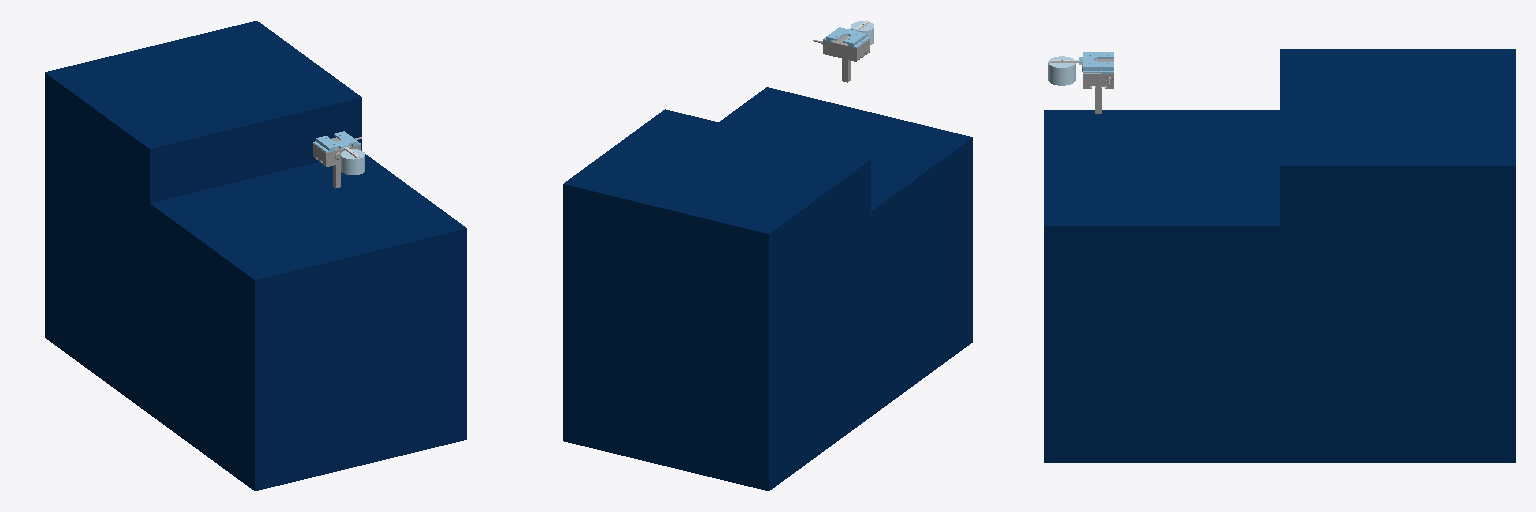
--- Facts derived from the render (not from the file) ---
Views: 3 orthographic renders of the robot side by side, from view 1: azimuth 30°, elevation 25°; view 2: azimuth 150°, elevation 25°; view 3: azimuth 270°, elevation 25°.
Robot: hc10_with_hand — 23 links, 22 joints (6 revolute, 2 prismatic, 14 fixed); root link part_1; default pose: all joints at 0.
Links seen in each view (by area): view 1: part_1, ffld_0850ncn30_lksr00_0__6, camera_sup2; view 2: part_1, ffld_0850ncn30_lksr00_0__6; view 3: part_1, ffld_0850ncn30_lksr00_0__6, camera_sup2.
Boxes of the visible links, <box> form: part_1: <box>45,21,466,490</box>; ffld_0850ncn30_lksr00_0__6: <box>313,131,361,166</box>; camera_sup2: <box>339,146,364,174</box>; part_1: <box>563,87,972,490</box>; ffld_0850ncn30_lksr00_0__6: <box>813,27,869,61</box>; part_1: <box>1044,49,1515,462</box>; ffld_0850ncn30_lksr00_0__6: <box>1079,52,1113,88</box>; camera_sup2: <box>1048,56,1082,85</box>.
Size in the robot's own frame: 0.7 by 1.2 by 0.97 metres.
Meshes: 13 distinct files referenced, 7 mesh visuals loaded (6 binary STL); not drawn: 7 (reference not matched to a file when rendering).

URDF robot description (hc10_with_hand):
<?xml version="1.0" ?>
<!-- =================================================================================== -->
<!-- |    This document was autogenerated by xacro from [local-path]/project/final_project/src/hc10_with_hand/urdf/hc10dt_full.urdf.xacro | -->
<!-- |    EDITING THIS FILE BY HAND IS NOT RECOMMENDED                                 | -->
<!-- =================================================================================== -->
<robot name="hc10_with_hand">
    <!-- link list -->
    <link name="base_link">
        <visual>
            <geometry>
                <mesh filename="package://motoman_hc10_support/meshes/hc10/visual/base_link.dae" />
            </geometry>
            <material name="">
                <color rgba="0.12941176470588237 0.14901960784313725 0.7490196078431373 1.0" />
            </material>
        </visual>
        <collision>
            <geometry>
                <mesh filename="package://motoman_hc10_support/meshes/hc10/collision/base_link.stl" />
            </geometry>
        </collision>
        <inertial>
            <mass value="0.1" />
            <origin xyz="0 0 0" rpy="0 0 0" />
            <inertia ixx="0.03" iyy="0.03" izz="0.03" ixy="0.0" ixz="0.0" iyz="0.0" />
        </inertial>
    </link>
    <link name="link_1_s">
        <visual>
            <geometry>
                <mesh filename="package://motoman_hc10_support/meshes/hc10/visual/link_1_s.dae" />
            </geometry>
            <material name="">
                <color rgba="0.12941176470588237 0.14901960784313725 0.7490196078431373 1.0" />
            </material>
        </visual>
        <collision>
            <geometry>
                <mesh filename="package://motoman_hc10_support/meshes/hc10/collision/link_1_s.stl" />
            </geometry>
        </collision>
        <inertial>
            <mass value="0.1" />
            <origin xyz="0 0 0" rpy="0 0 0" />
            <inertia ixx="0.03" iyy="0.03" izz="0.03" ixy="0.0" ixz="0.0" iyz="0.0" />
        </inertial>
    </link>
    <link name="link_2_l">
        <visual>
            <geometry>
                <mesh filename="package://motoman_hc10_support/meshes/hc10/visual/link_2_l.dae" />
            </geometry>
            <material name="">
                <color rgba="0.12941176470588237 0.14901960784313725 0.7490196078431373 1.0" />
            </material>
        </visual>
        <collision>
            <geometry>
                <mesh filename="package://motoman_hc10_support/meshes/hc10/collision/link_2_l.stl" />
            </geometry>
        </collision>
        <inertial>
            <mass value="0.1" />
            <origin xyz="0 0 0" rpy="0 0 0" />
            <inertia ixx="0.03" iyy="0.03" izz="0.03" ixy="0.0" ixz="0.0" iyz="0.0" />
        </inertial>
    </link>
    <link name="link_3_u">
        <visual>
            <geometry>
                <mesh filename="package://motoman_hc10_support/meshes/hc10/visual/link_3_u.dae" />
            </geometry>
            <material name="">
                <color rgba="0.12941176470588237 0.14901960784313725 0.7490196078431373 1.0" />
            </material>
        </visual>
        <collision>
            <geometry>
                <mesh filename="package://motoman_hc10_support/meshes/hc10/collision/link_3_u.stl" />
            </geometry>
        </collision>
        <inertial>
            <mass value="0.1" />
            <origin xyz="0 0 0" rpy="0 0 0" />
            <inertia ixx="0.03" iyy="0.03" izz="0.03" ixy="0.0" ixz="0.0" iyz="0.0" />
        </inertial>
    </link>
    <link name="link_4_r">
        <visual>
            <geometry>
                <mesh filename="package://motoman_hc10_support/meshes/hc10/visual/link_4_r.dae" />
            </geometry>
            <material name="">
                <color rgba="0.12941176470588237 0.14901960784313725 0.7490196078431373 1.0" />
            </material>
        </visual>
        <collision>
            <geometry>
                <mesh filename="package://motoman_hc10_support/meshes/hc10/collision/link_4_r.stl" />
            </geometry>
        </collision>
        <inertial>
            <mass value="0.1" />
            <origin xyz="0 0 0" rpy="0 0 0" />
            <inertia ixx="0.03" iyy="0.03" izz="0.03" ixy="0.0" ixz="0.0" iyz="0.0" />
        </inertial>
    </link>
    <link name="link_5_b">
        <visual>
            <geometry>
                <mesh filename="package://motoman_hc10_support/meshes/hc10/visual/link_5_b.dae" />
            </geometry>
            <material name="">
                <color rgba="0.12941176470588237 0.14901960784313725 0.7490196078431373 1.0" />
            </material>
        </visual>
        <collision>
            <geometry>
                <mesh filename="package://motoman_hc10_support/meshes/hc10/collision/link_5_b.stl" />
            </geometry>
        </collision>
        <inertial>
            <mass value="0.1" />
            <origin xyz="0 0 0" rpy="0 0 0" />
            <inertia ixx="0.03" iyy="0.03" izz="0.03" ixy="0.0" ixz="0.0" iyz="0.0" />
        </inertial>
    </link>
    <link name="link_6_t">
        <visual>
            <geometry>
                <mesh filename="package://motoman_hc10_support/meshes/hc10dt/visual/link_6_t.dae" />
            </geometry>
            <material name="">
                <color rgba="0.12941176470588237 0.14901960784313725 0.7490196078431373 1.0" />
            </material>
        </visual>
        <collision>
            <geometry>
                <mesh filename="package://motoman_hc10_support/meshes/hc10dt/collision/link_6_t.stl" />
            </geometry>
        </collision>
        <inertial>
            <mass value="0.1" />
            <origin xyz="0 0 0" rpy="0 0 0" />
            <inertia ixx="0.03" iyy="0.03" izz="0.03" ixy="0.0" ixz="0.0" iyz="0.0" />
        </inertial>
    </link>
    <link name="tool0" />
    <!-- end of link list -->
    <!-- joint list -->
    <joint name="joint_1_s" type="revolute">
        <parent link="base_link" />
        <child link="link_1_s" />
        <origin rpy="0 0 0" xyz="0 0 0.275" />
        <axis xyz="0 0 1" />
        <limit effort="368.48" lower="-3.141592653589793" upper="3.141592653589793" velocity="2.2689280275926285" />
    </joint>
    <joint name="joint_2_l" type="revolute">
        <parent link="link_1_s" />
        <child link="link_2_l" />
        <origin rpy="0 0 0" xyz="0 0 0" />
        <axis xyz="0 1 0" />
        <limit effort="368.48" lower="-3.141592653589793" upper="3.141592653589793" velocity="2.2689280275926285" />
    </joint>
    <joint name="joint_3_u" type="revolute">
        <parent link="link_2_l" />
        <child link="link_3_u" />
        <origin rpy="0 0 0" xyz="0 0 0.700" />
        <axis xyz="0 -1 0" />
        <limit effort="141.12" lower="-0.08726646259971647" upper="6.19591884457987" velocity="3.141592653589793" />
    </joint>
    <joint name="joint_4_r" type="revolute">
        <parent link="link_3_u" />
        <child link="link_4_r" />
        <origin rpy="0 0 0" xyz="0 0 -0.500" />
        <axis xyz="0 0 1" />
        <limit effort="39.20" lower="-3.141592653589793" upper="3.141592653589793" velocity="3.141592653589793" />
    </joint>
    <joint name="joint_5_b" type="revolute">
        <parent link="link_4_r" />
        <child link="link_5_b" />
        <origin rpy="0 0 0" xyz="0 0.162 0" />
        <axis xyz="0 -1 0" />
        <limit effort="31.36" lower="-3.141592653589793" upper="3.141592653589793" velocity="4.363323129985824" />
    </joint>
    <joint name="joint_6_t" type="revolute">
        <parent link="link_5_b" />
        <child link="link_6_t" />
        <origin rpy="0 0 0" xyz="0 0 0" />
        <axis xyz="0 0 1" />
        <limit effort="31.36" lower="-3.141592653589793" upper="3.141592653589793" velocity="4.363323129985824" />
    </joint>
    <joint name="joint_6_t-tool0" type="fixed">
        <origin rpy="3.141592653589793 0 0" xyz="0 0 -0.170" />
        <parent link="link_6_t" />
        <child link="tool0" />
    </joint>
    <!-- end of joint list -->
    <!-- ROS base_link to Robot Manufacturer World Coordinates transform -->
    <link name="base" />
    <joint name="base_link-base" type="fixed">
        <origin rpy="0 0 0" xyz="0 0 0.275" />
        <parent link="base_link" />
        <child link="base" />
    </joint>
    <link name="part_1">
        <visual>
            <origin rpy="0 -0 0" xyz="-0.35000000000000003331 0 0" />
            <geometry>
                <mesh filename="package://hc10_with_hand/meshes/agv2/part_1.stl" />
            </geometry>
            <material name="part_1_material">
                <color rgba="0.043137254901960783715 0.21568627450980393245 0.40392156862745098866 1.0" />
            </material>
        </visual>
        <collision>
            <origin rpy="0 -0 0" xyz="-0.35000000000000003331 0 0" />
            <geometry>
                <mesh filename="package://hc10_with_hand/meshes/agv2/part_1.stl" />
            </geometry>
        </collision>
        <inertial>
            <origin rpy="0 0 0" xyz="-5.5511151231257827021e-17 0.63400000000000000799 0.37981666666666674681" />
            <mass value="4945.500000000001819" />
            <inertia ixx="837.31419627625041358" ixy="1.0274208650518092216e-13" ixz="1.4222477333000753134e-14" iyy="451.51244427625027811" iyz="-62.245216950000028078" izz="789.68425200000012865" />
        </inertial>
    </link>
    <link name="arm_position">
        <inertial>
            <origin rpy="0 0 0" xyz="0 0 0" />
            <mass value="1e-9" />
            <inertia ixx="0" ixy="0" ixz="0" iyy="0" iyz="0" izz="0" />
        </inertial>
    </link>
    <joint name="arm_position_frame" type="fixed">
        <origin rpy="0 -0 -1.570796326794896558" xyz="-1.6656406986375213093e-16 0.29999999999999982236 0.66500000000000036859" />
        <parent link="part_1" />
        <child link="arm_position" />
        <axis xyz="0 0 0" />
    </joint>
    <link name="ffld_0850ncn30_lksr00_0__6">
        <visual>
            <origin rpy="1.5707963197624172924 -9.3043403012065366432e-09 -3.1383258088491423621" xyz="0.057499581136592189945 0.0002219151046475575928 0.012999999465240053009" />
            <geometry>
                <mesh filename="package://hc10_with_hand/meshes/end_effector/ffld_0850ncn30_lksr00_0__6.stl" />
            </geometry>
            <material name="ffld_0850ncn30_lksr00_0__6_material">
                <color rgba="0.68627450980392157298 0.68627450980392157298 0.68627450980392157298 1.0" />
            </material>
        </visual>
        <collision>
            <origin rpy="1.5707963197624172924 -9.3043403012065366432e-09 -3.1383258088491423621" xyz="0.057499581136592189945 0.0002219151046475575928 0.012999999465240053009" />
            <geometry>
                <mesh filename="package://hc10_with_hand/meshes/end_effector/ffld_0850ncn30_lksr00_0__6.stl" />
            </geometry>
        </collision>
        <visual>
            <origin rpy="1.5707963197624170704 -9.3043400791619201376e-09 -3.138325808849141918" xyz="0.05749958580022360155 0.00022191160362493300706 0.51299999946524066363" />
            <geometry>
                <mesh filename="package://hc10_with_hand/meshes/end_effector/support_end_effector.stl" />
            </geometry>
            <material name="support_end_effector_material">
                <color rgba="0.61568627450980395466 0.81176470588235294379 0.92941176470588238168 1.0" />
            </material>
        </visual>
        <collision>
            <origin rpy="1.5707963197624170704 -9.3043400791619201376e-09 -3.138325808849141918" xyz="0.05749958580022360155 0.00022191160362493300706 0.51299999946524066363" />
            <geometry>
                <mesh filename="package://hc10_with_hand/meshes/end_effector/support_end_effector.stl" />
            </geometry>
        </collision>
        <inertial>
            <origin rpy="0 0 0" xyz="-0.00017124515018543807858 -0.00032649461781921829216 0.030490247070913023553" />
            <mass value="3.4292542988302696649" />
            <inertia ixx="0.0026649603191174243977" ixy="1.9310786724948536671e-05" ixz="-1.8842537492230146118e-06" iyy="0.0046547440941269481451" iyz="-2.721762450203936949e-05" izz="0.0057258445196087144613" />
        </inertial>
    </link>
    <link name="center_finger">
        <inertial>
            <origin rpy="0 0 0" xyz="0 0 0" />
            <mass value="1e-9" />
            <inertia ixx="0" ixy="0" ixz="0" iyy="0" iyz="0" izz="0" />
        </inertial>
    </link>
    <joint name="center_finger_frame" type="fixed">
        <origin rpy="9.3043404330455770657e-09 -7.0324804683672409296e-09 1.5740631715355417608" xyz="-1.1077846809835756314e-07 3.407092089739716112e-05 0.14800000000024016167" />
        <parent link="ffld_0850ncn30_lksr00_0__6" />
        <child link="center_finger" />
        <axis xyz="0 0 0" />
    </joint>
    <link name="end_effector_center">
        <inertial>
            <origin rpy="0 0 0" xyz="0 0 0" />
            <mass value="1e-9" />
            <inertia ixx="0" ixy="0" ixz="0" iyy="0" iyz="0" izz="0" />
        </inertial>
    </link>
    <joint name="end_effector_center_frame" type="fixed">
        <origin rpy="9.3043401069174907901e-09 -7.0324793788390369411e-09 1.5740631715355455356" xyz="1.2125441276045201278e-10 -9.1026602921928656542e-11 0.012999999999999997669" />
        <parent link="ffld_0850ncn30_lksr00_0__6" />
        <child link="end_effector_center" />
        <axis xyz="0 0 0" />
    </joint>
    <link name="arm_to_hand">
        <inertial>
            <origin rpy="0 0 0" xyz="0 0 0" />
            <mass value="1e-9" />
            <inertia ixx="0" ixy="0" ixz="0" iyy="0" iyz="0" izz="0" />
        </inertial>
    </link>
    <joint name="arm_to_hand_frame" type="fixed">
        <origin rpy="7.0324800430257777421e-09 9.3043403012065234083e-09 0.003266844740651022802" xyz="0 0 0" />
        <parent link="arm_to_hand" />
        <child link="ffld_0850ncn30_lksr00_0__6" />
        <axis xyz="0 0 0" />
    </joint>
    <link name="hand_to_camera">
        <inertial>
            <origin rpy="0 0 0" xyz="0 0 0" />
            <mass value="1e-9" />
            <inertia ixx="0" ixy="0" ixz="0" iyy="0" iyz="0" izz="0" />
        </inertial>
    </link>
    <joint name="hand_to_camera_frame" type="fixed">
        <origin rpy="7.0324804106860020408e-09 9.3043403012065366432e-09 0.0032668447406510223684" xyz="-0.0073555144854190873671 -0.044240193231909627491 0.002999999758834949893" />
        <parent link="ffld_0850ncn30_lksr00_0__6" />
        <child link="hand_to_camera" />
        <axis xyz="0 0 0" />
    </joint>
    <link name="ffld_0850ncn30_lksr00_0__3">
        <visual>
            <origin rpy="1.570796326794896558 1.570796326794896336 0" xyz="-0.013499999999999998113 -0.012699999999999996014 0.0097999999999999459072" />
            <geometry>
                <mesh filename="package://hc10_with_hand/meshes/end_effector/ffld_0850ncn30_lksr00_0__3.stl" />
            </geometry>
            <material name="ffld_0850ncn30_lksr00_0__3_material">
                <color rgba="0.68627450980392157298 0.68627450980392157298 0.68627450980392157298 1.0" />
            </material>
        </visual>
        <collision>
            <origin rpy="1.570796326794896558 1.570796326794896336 0" xyz="-0.013499999999999998113 -0.012699999999999996014 0.0097999999999999459072" />
            <geometry>
                <mesh filename="package://hc10_with_hand/meshes/end_effector/ffld_0850ncn30_lksr00_0__3.stl" />
            </geometry>
        </collision>
        <inertial>
            <origin rpy="0 0 0" xyz="0.026010155325234741996 -0.0047355803699542925456 -0.003214113833324977812" />
            <mass value="0.19285564776873392878" />
            <inertia ixx="5.5202859436152247683e-05" ixy="-2.9112780924458249069e-05" ixz="-5.23746968336353535e-05" iyy="0.00024511850474100843611" iyz="-1.2232725957805765321e-05" izz="0.00021268038410786007817" />
        </inertial>
    </link>
    
    <joint name="fing1" type="prismatic">
        <origin rpy="0.0032668447406510748438 -1.5707963151318564687 0" xyz="-1.1161792179241458722e-07 3.4071551081503448355e-05 0.058000000000239609887" />
        <parent link="ffld_0850ncn30_lksr00_0__6" />
        <child link="ffld_0850ncn30_lksr00_0__3" />
        <axis xyz="0 0 1" />
        <limit effort="80" lower="0" upper="0.050000000000000002776" velocity="20" />
        <joint_properties friction="0.01" />
    </joint>
    <link name="ffld_0850ncn30_lksr00_0__3_2">
        <visual>
            <origin rpy="1.570796326794896558 1.570796326794896336 0" xyz="-0.013499999999999998113 -0.012699999999999997749 0.0097999999999999476419" />
            <geometry>
                <mesh filename="package://hc10_with_hand/meshes/end_effector/ffld_0850ncn30_lksr00_0__3.stl" />
            </geometry>
            <material name="ffld_0850ncn30_lksr00_0__3_material">
                <color rgba="0.68627450980392157298 0.68627450980392157298 0.68627450980392157298 1.0" />
            </material>
        </visual>
        <collision>
            <origin rpy="1.570796326794896558 1.570796326794896336 0" xyz="-0.013499999999999998113 -0.012699999999999997749 0.0097999999999999476419" />
            <geometry>
                <mesh filename="package://hc10_with_hand/meshes/end_effector/ffld_0850ncn30_lksr00_0__3.stl" />
            </geometry>
        </collision>
        <inertial>
            <origin rpy="0 0 0" xyz="0.026010155325234741996 -0.0047355803699542942803 -0.0032141138333249760772" />
            <mass value="0.19285564776873392878" />
            <inertia ixx="5.5202859436152247683e-05" ixy="-2.9112780924458249069e-05" ixz="-5.23746968336353535e-05" iyy="0.00024511850474100843611" iyz="-1.2232725957805765321e-05" izz="0.00021268038410786007817" />
        </inertial>
    </link>
    <joint name="fing2" type="prismatic">
        <origin rpy="-3.1383258088491423621 -1.5707963151318573569 0" xyz="-1.1161792179588403418e-07 3.4071551081512121972e-05 0.058000000000239672338" />
        <parent link="ffld_0850ncn30_lksr00_0__6" />
        <child link="ffld_0850ncn30_lksr00_0__3_2" />
        <axis xyz="0 0 1" />
        <limit effort="80" lower="0" upper="0.050000000000000002776" velocity="20" />
        <joint_properties friction="0.01" />
    </joint>
    <link name="camera_sup2">
        <visual>
            <origin rpy="1.570796326794896558 6.6613381477509234653e-16 -1.570796326794896558" xyz="-0.044250000000000101752 0.064999999999999655276 0.51000000000000034195" />
            <geometry>
                <mesh filename="package://hc10_with_hand/meshes/camera/camera_sup2.stl" />
            </geometry>
            <material name="camera_sup2_material">
                <color rgba="0.91764705882352937127 0.91764705882352937127 0.91764705882352937127 1.0" />
            </material>
        </visual>
        <collision>
            <origin rpy="1.570796326794896558 6.6613381477509234653e-16 -1.570796326794896558" xyz="-0.044250000000000101752 0.064999999999999655276 0.51000000000000034195" />
            <geometry>
                <mesh filename="package://hc10_with_hand/meshes/camera/camera_sup2.stl" />
            </geometry>
        </collision>
        <visual>
            <origin rpy="1.570796326794896558 6.6613381477509234653e-16 -1.570796326794896558" xyz="-0.045084453531127645365 0.064999999999999655276 0.51000000000000045297" />
            <geometry>
                <mesh filename="package://hc10_with_hand/meshes/camera/camera_link.stl" />
            </geometry>
            <material name="camera_link_material">
                <color rgba="0.76862745098039220171 0.88627450980392152857 0.95294117647058818044 1.0" />
            </material>
        </visual>
        <collision>
            <origin rpy="1.570796326794896558 6.6613381477509234653e-16 -1.570796326794896558" xyz="-0.045084453531127645365 0.064999999999999655276 0.51000000000000045297" />
            <geometry>
                <mesh filename="package://hc10_with_hand/meshes/camera/camera_link.stl" />
            </geometry>
        </collision>
        <inertial>
            <origin rpy="0 0 0" xyz="0.04949093212775205336 0.0074999999999999372724 0.029126341361751767467" />
            <mass value="0.44949998079333491896" />
            <inertia ixx="0.00025885935812457525193" ixy="-9.4509154105318211273e-21" ixz="-6.3216991564398030949e-06" iyy="0.00024727718204468863376" iyz="-3.5333537328324862512e-20" izz="0.00030425868802670864464" />
        </inertial>
    </link>
    <link name="camera_to_hand">
        <inertial>
            <origin rpy="0 0 0" xyz="0 0 0" />
            <mass value="1e-9" />
            <inertia ixx="0" ixy="0" ixz="0" iyy="0" iyz="0" izz="0" />
        </inertial>
    </link>
    <joint name="camera_to_hand_frame" type="fixed">
        <origin rpy="6.6613381477509185349e-16 5.6699377562760083384e-31 1.3877787807814422859e-17" xyz="1.2986865570217543499e-17 -6.9676108198468406655e-17 -3.3306690738754696213e-16" />
        <parent link="camera_to_hand" />
        <child link="camera_sup2" />
        <axis xyz="0 0 0" />
    </joint>
    <link name="camera_link_view">
        <inertial>
            <origin rpy="0 0 0" xyz="0 0 0" />
            <mass value="1e-9" />
            <inertia ixx="0" ixy="0" ixz="0" iyy="0" iyz="0" izz="0" />
        </inertial>
    </link>
    <joint name="camera_link_view_frame" type="fixed">
        <origin rpy="-5.6699377562760144691e-31 6.6613381477509234653e-16 -1.570796326794896558" xyz="0.050000000000000134615 0.0074999999999999103842 0.049999999999999732159" />
        <parent link="camera_sup2" />
        <child link="camera_link_view" />
        <axis xyz="0 0 0" />
    </joint>
    
    <joint name="camera_optical_joint" type="fixed">
        <origin rpy="0 -1.5707963267948966 1.5707963267948966" xyz="0 0 0" />
        <parent link="camera_link_view" />
        <child link="camera_link_optical" />
    </joint>
    
    <link name="camera_link_optical" >
        </link>
    
    <joint name="camera_rviz_joint" type="fixed">
    <origin xyz="0 0 0" rpy="-1.5707963267948966 0 -1.5707963267948966"/>
    <parent link="camera_link_optical"/>
    <child link="camera_rviz"/>
  </joint>
      <link name="camera_rviz">
  </link>
    
    <gazebo reference="camera_link_optical">
        <material>Gazebo/Red</material>
        <sensor name="camera" type="camera">
            <pose>0 0 0 0 0 0</pose>
            <visualize>true</visualize>
            <update_rate>10</update_rate>
            <camera >
                <horizontal_fov>1.42419</horizontal_fov>
                <image>
                    <format>R8G8B8</format>
                    <width>1920</width>
                    <height>1080</height>
                </image>
                <clip>
                    <near>0.05</near>
                    <far>8.0</far>
                </clip>
            </camera>
            <plugin filename="libgazebo_ros_camera.so" name="camera_controller">
                <frame_name>camera_rviz</frame_name>
                <robotNamespace>/camera_rect</robotNamespace>
                
            </plugin>
        </sensor>
        <plugin name="gazebo_ros_control">
            
        </plugin>
    </gazebo>
    <joint name="$agv_arm_joint" type="fixed">
        <parent link="arm_position" />
        <child link="base_link" />
        <origin rpy="0 0 -1.5707963267948966" xyz="0 0 0" />
    </joint>
    <joint name="$hand_tool_joint" type="fixed">
        <parent link="tool0" />
        <child link="arm_to_hand" />
        <origin rpy="0 0 0" xyz="0 0 0" />
    </joint>
    <joint name="$camera_joint" type="fixed">
        <parent link="hand_to_camera" />
        <child link="camera_to_hand" />
        <origin rpy="0 0 -1.5707963267948966" xyz="0 0 0" />
    </joint>
    <transmission name="trans_joint_1_s">
        <type>transmission_interface/SimpleTransmission</type>
        <joint name="joint_1_s">
            <hardwareInterface>hardware_interface/PositionJointInterface</hardwareInterface>
        </joint>
        <actuator name="joint_1_s_motor">
            <hardwareInterface>hardware_interface/PositionJointInterface</hardwareInterface>
            <mechanicalReduction>1</mechanicalReduction>
        </actuator>
    </transmission>
    <transmission name="trans_joint_2_l">
        <type>transmission_interface/SimpleTransmission</type>
        <joint name="joint_2_l">
            <hardwareInterface>hardware_interface/PositionJointInterface</hardwareInterface>
        </joint>
        <actuator name="joint_2_l_motor">
            <hardwareInterface>hardware_interface/PositionJointInterface</hardwareInterface>
            <mechanicalReduction>1</mechanicalReduction>
        </actuator>
    </transmission>
    <transmission name="trans_joint_3_u">
        <type>transmission_interface/SimpleTransmission</type>
        <joint name="joint_3_u">
            <hardwareInterface>hardware_interface/PositionJointInterface</hardwareInterface>
        </joint>
        <actuator name="joint_3_u_motor">
            <hardwareInterface>hardware_interface/PositionJointInterface</hardwareInterface>
            <mechanicalReduction>1</mechanicalReduction>
        </actuator>
    </transmission>
    <transmission name="trans_joint_4_r">
        <type>transmission_interface/SimpleTransmission</type>
        <joint name="joint_4_r">
            <hardwareInterface>hardware_interface/PositionJointInterface</hardwareInterface>
        </joint>
        <actuator name="joint_4_r_motor">
            <hardwareInterface>hardware_interface/PositionJointInterface</hardwareInterface>
            <mechanicalReduction>1</mechanicalReduction>
        </actuator>
    </transmission>
    <transmission name="trans_joint_5_b">
        <type>transmission_interface/SimpleTransmission</type>
        <joint name="joint_5_b">
            <hardwareInterface>hardware_interface/PositionJointInterface</hardwareInterface>
        </joint>
        <actuator name="joint_5_b_motor">
            <hardwareInterface>hardware_interface/PositionJointInterface</hardwareInterface>
            <mechanicalReduction>1</mechanicalReduction>
        </actuator>
    </transmission>
    <transmission name="trans_joint_6_t">
        <type>transmission_interface/SimpleTransmission</type>
        <joint name="joint_6_t">
            <hardwareInterface>hardware_interface/PositionJointInterface</hardwareInterface>
        </joint>
        <actuator name="joint_6_t_motor">
            <hardwareInterface>hardware_interface/PositionJointInterface</hardwareInterface>
            <mechanicalReduction>1</mechanicalReduction>
        </actuator>
    </transmission>
    <transmission name="trans_fing1">
        <type>transmission_interface/SimpleTransmission</type>
        <joint name="fing1">
            <hardwareInterface>hardware_interface/PositionJointInterface</hardwareInterface>
        </joint>
        <actuator name="fing1_motor">
            <hardwareInterface>hardware_interface/PositionJointInterface</hardwareInterface>
            <mechanicalReduction>1</mechanicalReduction>
        </actuator>
    </transmission>
    <transmission name="trans_fing2">
        <type>transmission_interface/SimpleTransmission</type>
        <joint name="fing2">
            <hardwareInterface>hardware_interface/PositionJointInterface</hardwareInterface>
        </joint>
        <actuator name="fing2_motor">
            <hardwareInterface>hardware_interface/PositionJointInterface</hardwareInterface>
            <mechanicalReduction>1</mechanicalReduction>
        </actuator>
    </transmission>
    
    <gazebo>
        <plugin filename="libgazebo_ros_control.so" name="gazebo_ros_control">
            <robotNamespace>/</robotNamespace>
        </plugin>
    </gazebo>
</robot>
